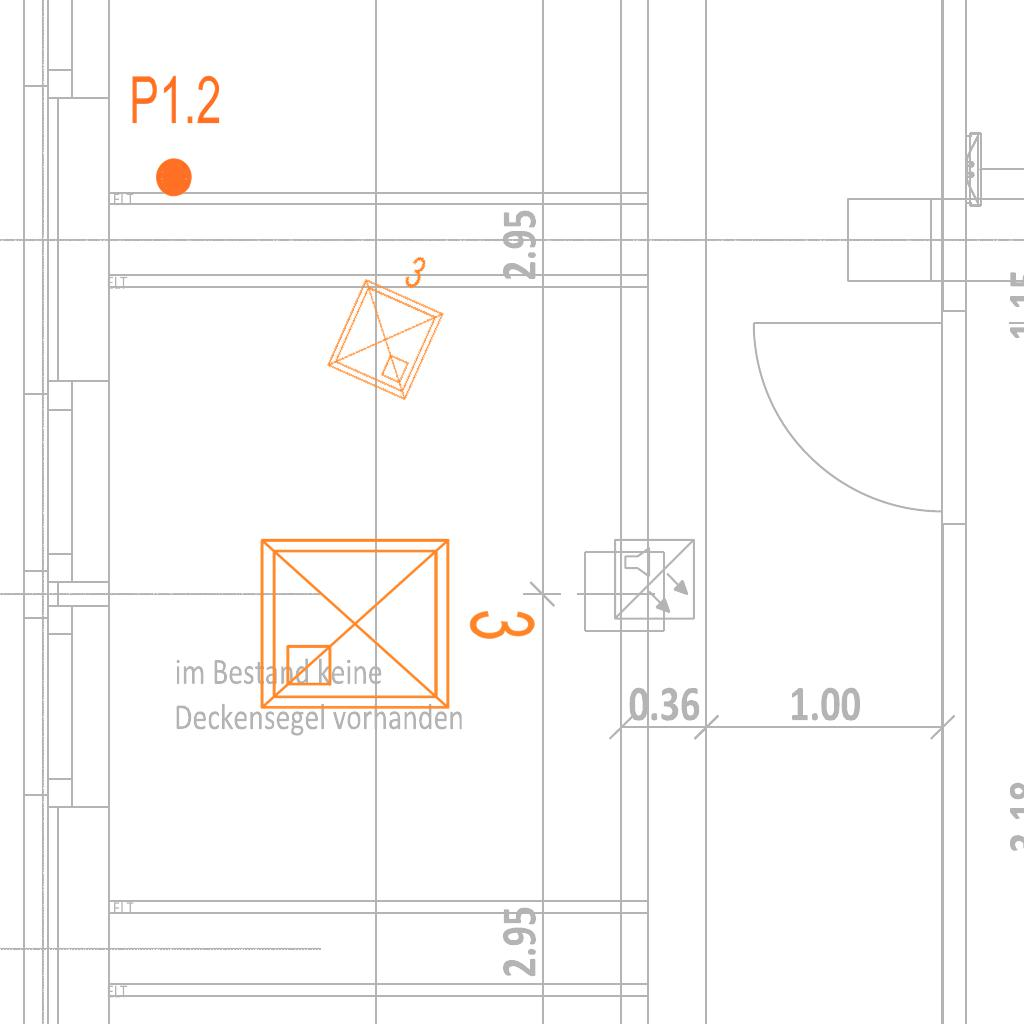Downlight_LED_Einbauleuchten_Flur: (129, 72, 222, 200)
Einbaudownlights_LED_Konferenzraeume: (246, 516, 546, 724), (313, 230, 471, 410)
